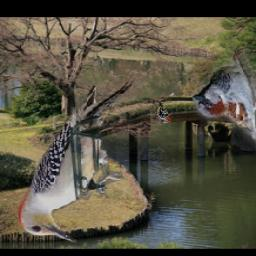Sparrow: (191, 47, 256, 156)
Woodpecker: (15, 78, 136, 245), (149, 100, 171, 125)
